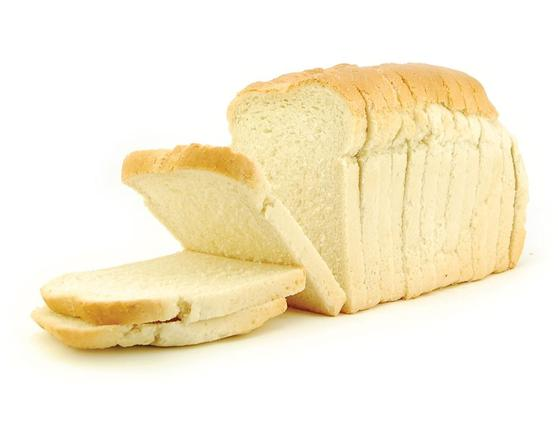white_bread: (318, 59, 525, 306)
